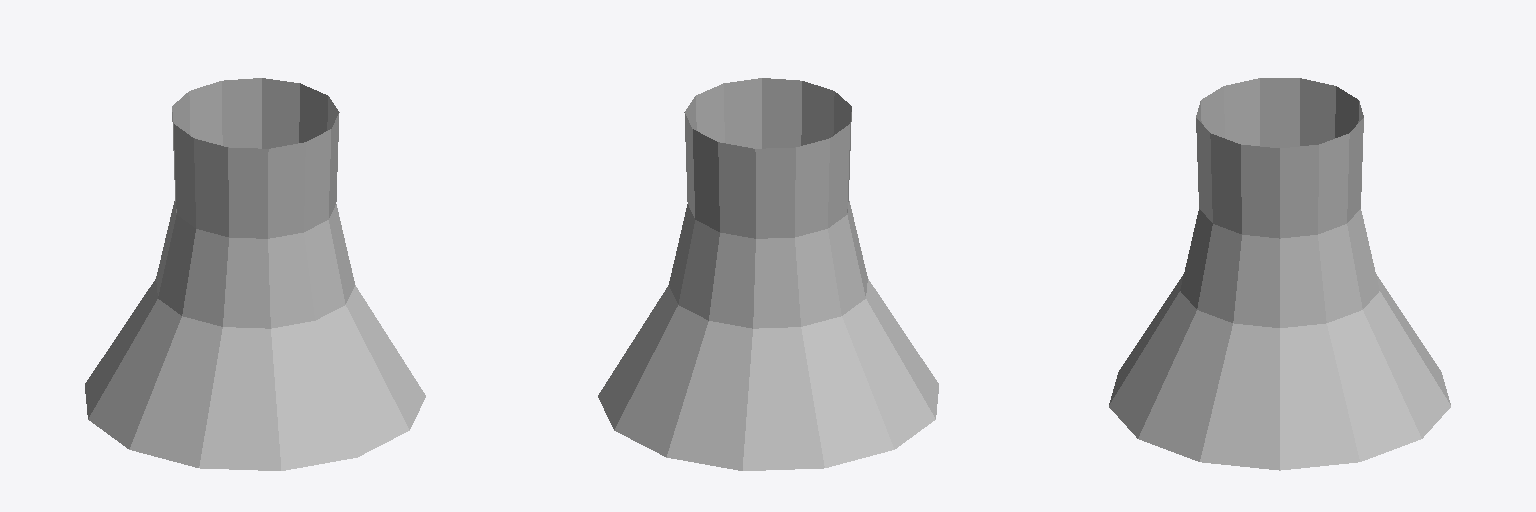
File: shroomBot.obj
3 renders of one model, left to right at view 1: azimuth 30°, elevation 25°; view 2: azimuth 150°, elevation 25°; view 3: azimuth 270°, elevation 25°, orthographic.
Parts seen in each view (by area): view 1: shroomBot Hall; view 2: shroomBot Hall; view 3: shroomBot Hall.
Boxes of the visible parts, box(x1,y1,x2,y2) form: shroomBot Hall: box(85, 78, 425, 470); shroomBot Hall: box(598, 78, 938, 470); shroomBot Hall: box(1109, 78, 1450, 470).
Bounding box in the file's own units: 8.31 × 7.69 × 8.37.